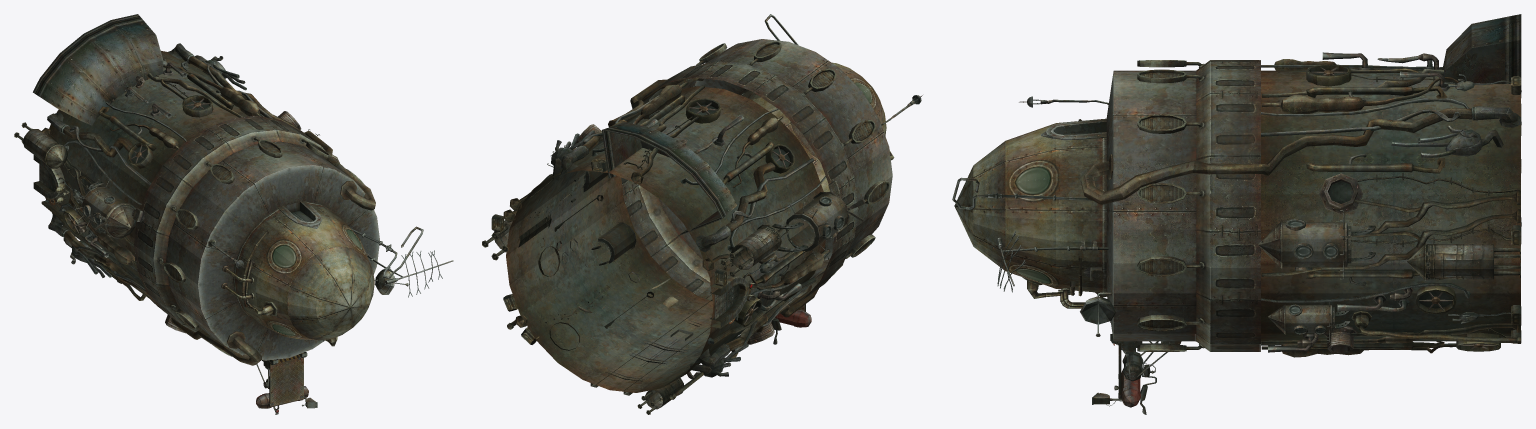
The model's file is huodong_fuben_662_rkzhu.obj.
3 renders of one model, left to right at view 1: azimuth 30°, elevation 25°; view 2: azimuth 150°, elevation 25°; view 3: azimuth 270°, elevation 25°, orthographic. The views are drawn at different scales.
Parts seen in each view (by area): view 1: huodong_fuben_662_rkzhu; view 2: huodong_fuben_662_rkzhu; view 3: huodong_fuben_662_rkzhu.
Part boxes in pixels (x1,y1,x2,y2): huodong_fuben_662_rkzhu: (14, 14, 453, 414); huodong_fuben_662_rkzhu: (482, 14, 922, 414); huodong_fuben_662_rkzhu: (952, 14, 1521, 414).
Size of the model in its own units: 1777 by 1948 by 2649.
Materials: 11 (11 with a texture image).
